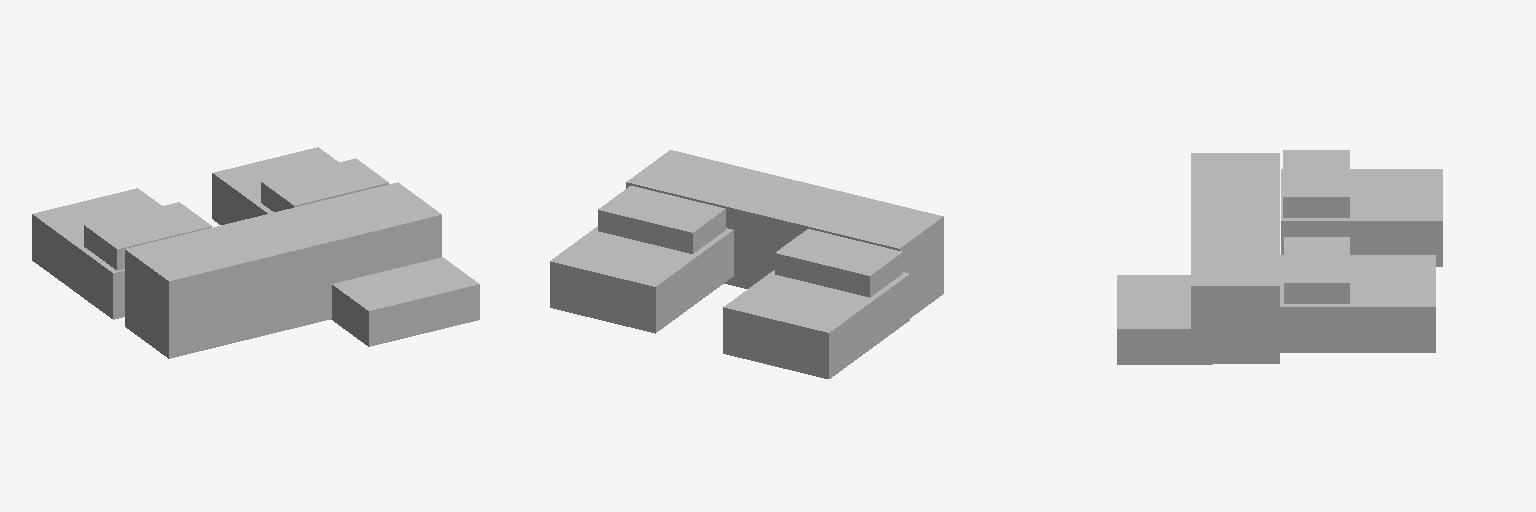
The model's file is collider.obj.
The picture shows the model from 3 angles: view 1: azimuth 30°, elevation 25°; view 2: azimuth 150°, elevation 25°; view 3: azimuth 270°, elevation 25°; orthographic projection.
Visible parts, largest first — view 1: Collider_Cube.004; view 2: Collider_Cube.004; view 3: Collider_Cube.004.
Boxes of the visible parts, x1,y1,x2,y2 form: Collider_Cube.004: [32, 147, 479, 358]; Collider_Cube.004: [550, 150, 943, 378]; Collider_Cube.004: [1117, 150, 1442, 364].
Size of the model in its own units: 47.71 by 12.52 by 47.2.